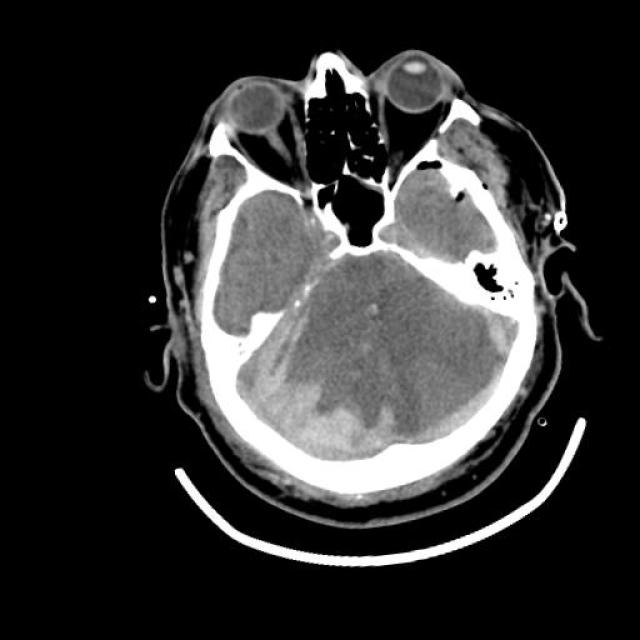Intraparenchymal: (226, 362, 403, 476)
Subarachnoid: (247, 303, 324, 387)
Subdural: (398, 361, 522, 474), (463, 292, 558, 368)
